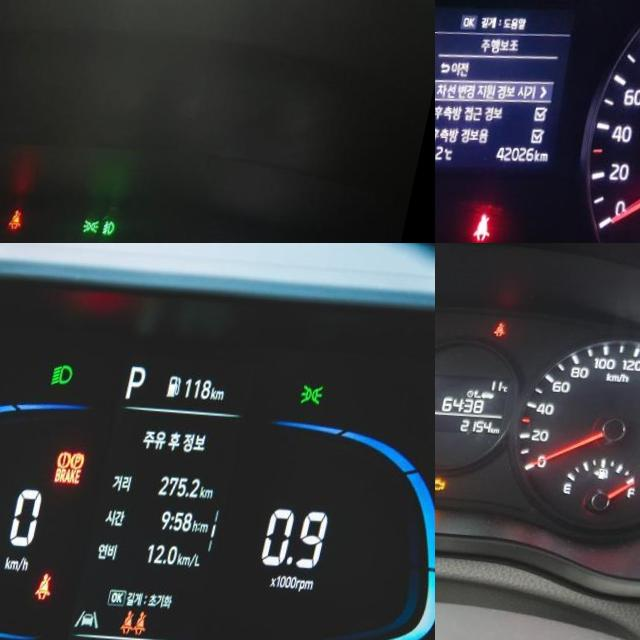FrontFogLight: (111, 215, 126, 231)
LaneCenteringOff: (92, 603, 118, 626)
Low beam: (57, 359, 81, 384)
SideLamp: (305, 376, 331, 400), (92, 213, 112, 229)
